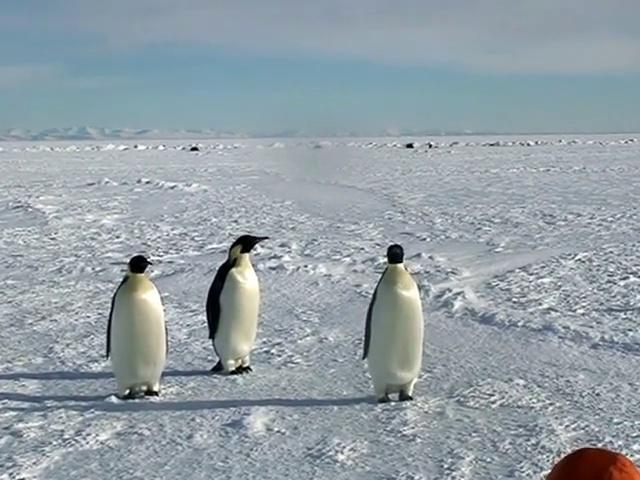animal: (364, 245, 425, 403)
